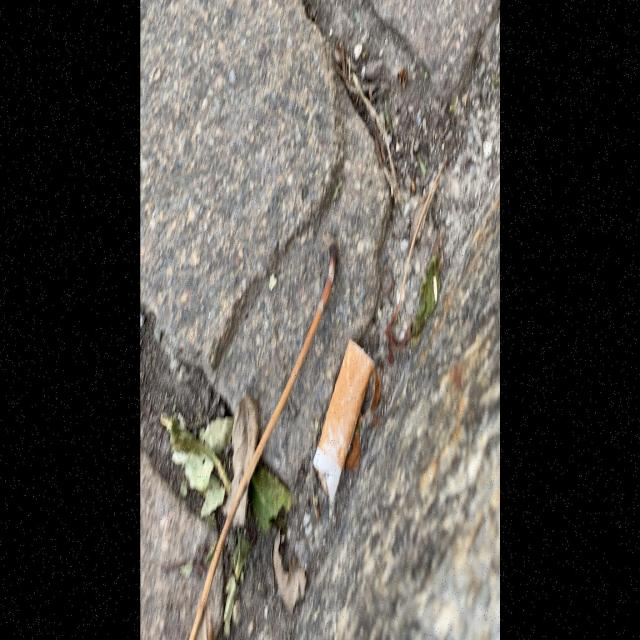other waste: (311, 337, 376, 522)
